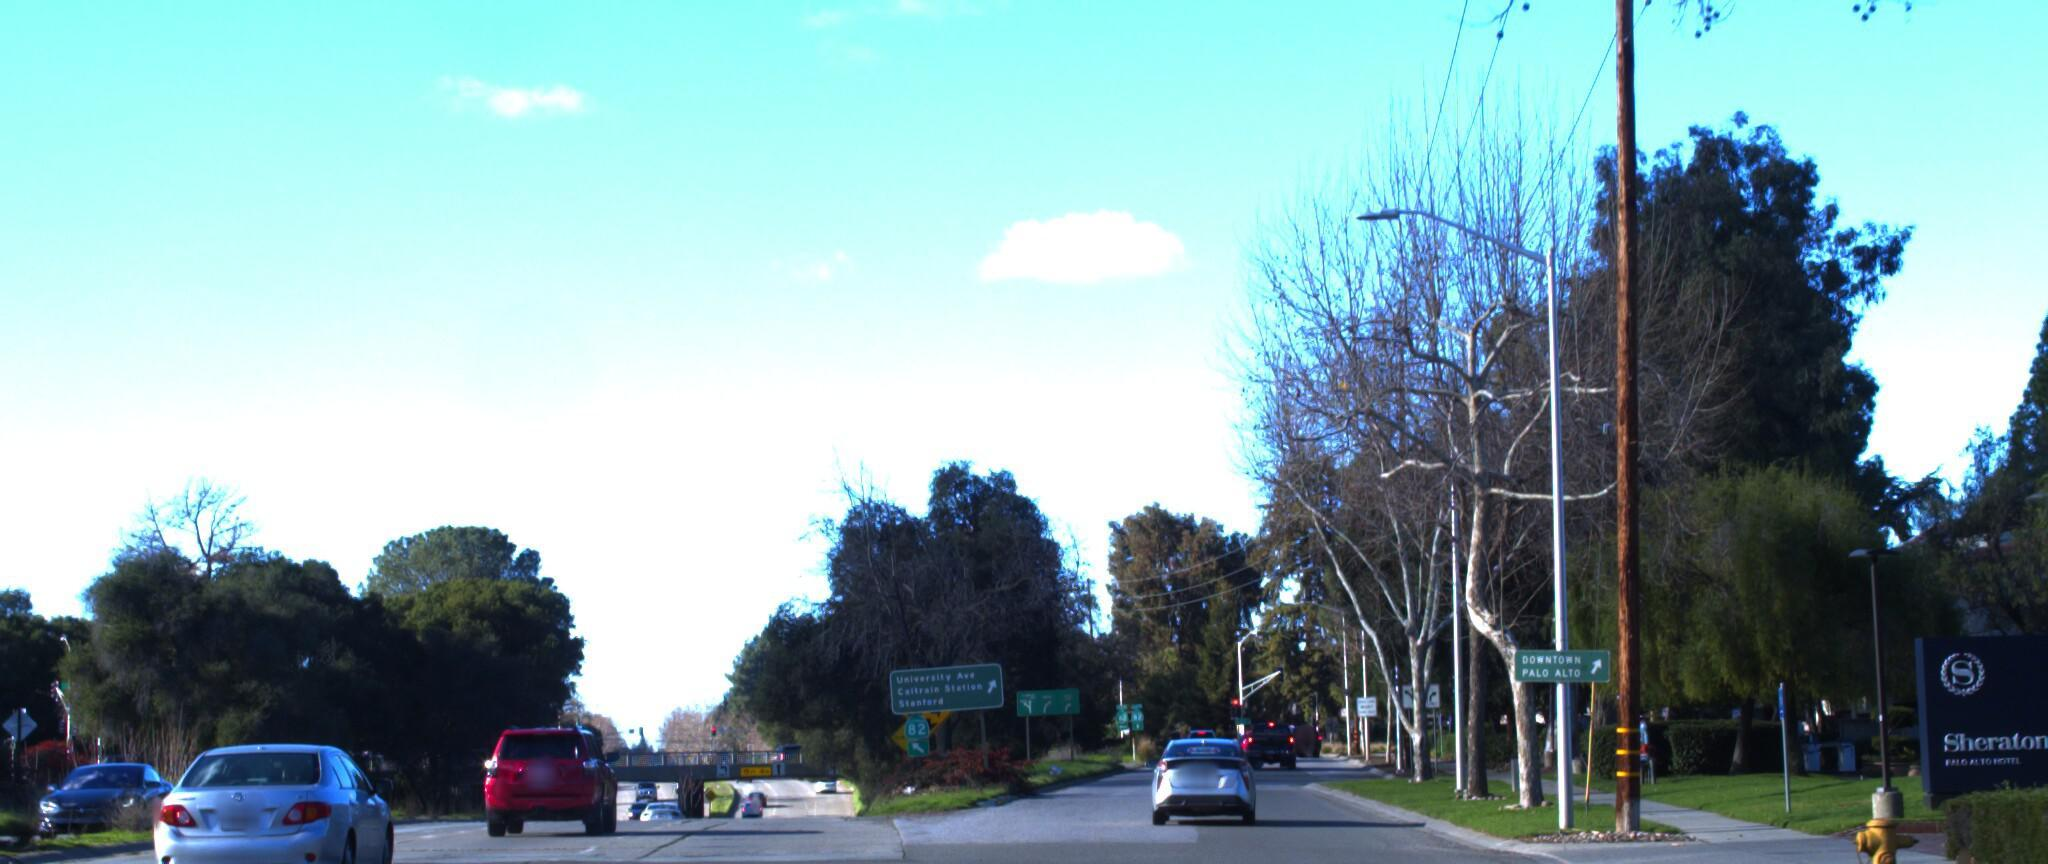car: (152, 722, 418, 864), (482, 722, 630, 841), (1139, 727, 1256, 822), (0, 696, 37, 864)
